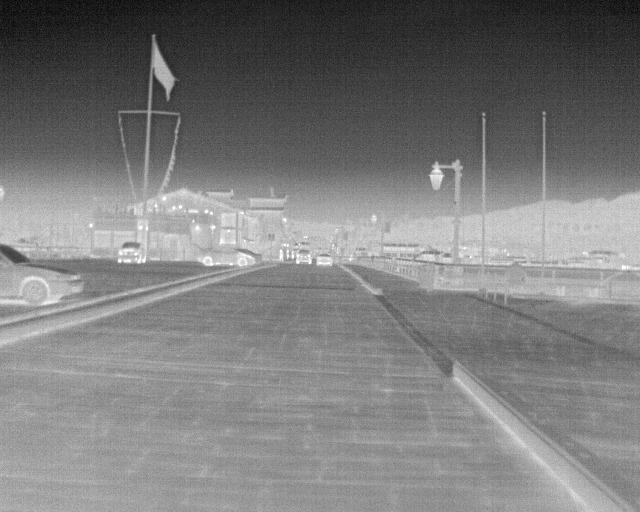car: (1, 242, 84, 306), (196, 245, 254, 268), (117, 239, 146, 266), (239, 246, 262, 267), (296, 248, 314, 266), (314, 250, 332, 267)
